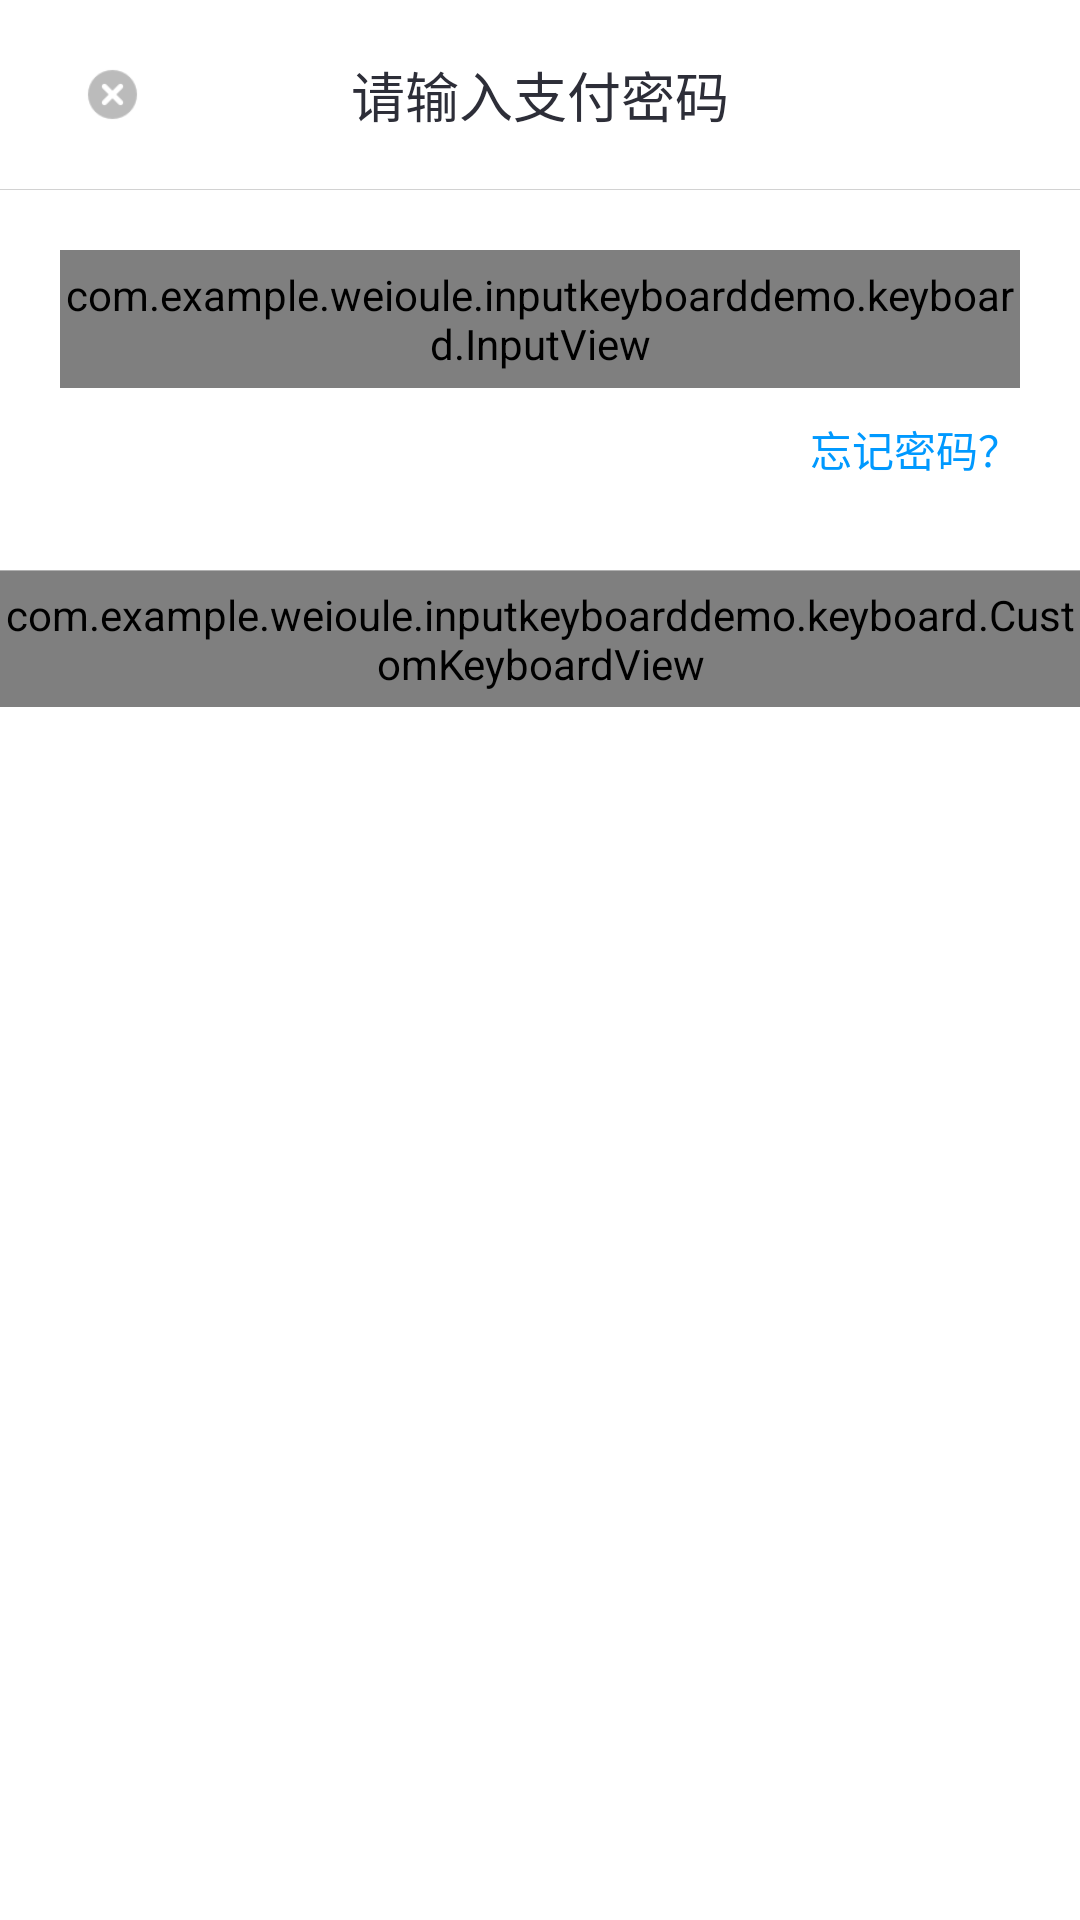

Icons on this 1080x1920 Android screen, each with its box as (x1, y1, x2, y2):
clear: (88, 70, 137, 119)
